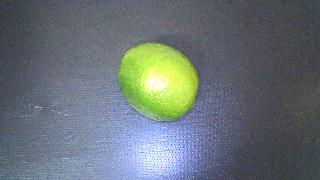EXPORTACION: (118, 42, 199, 121)
